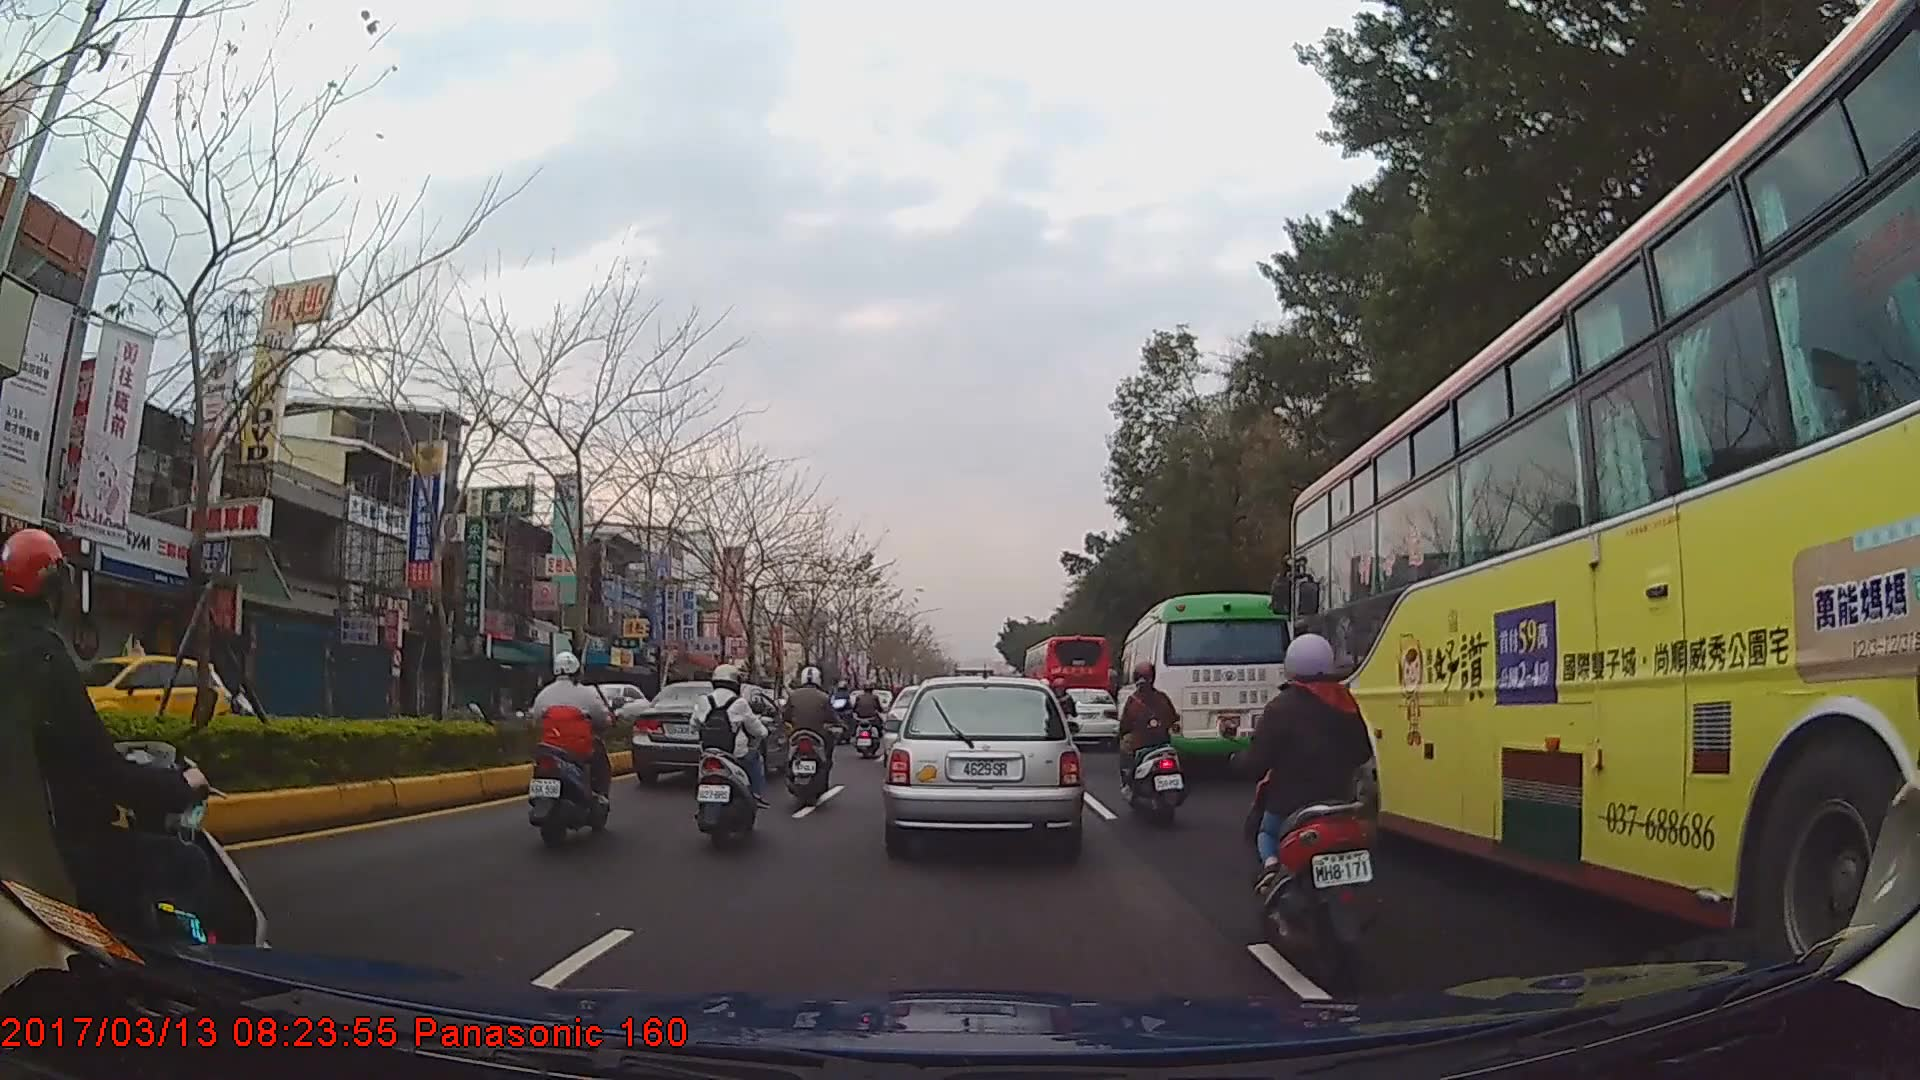rider: (1, 531, 280, 986), (1246, 627, 1382, 979), (531, 649, 615, 849), (687, 662, 766, 851), (1117, 661, 1184, 819), (780, 666, 845, 808), (851, 681, 888, 761), (834, 680, 857, 726)
vehicle: (1285, 0, 1920, 1021), (882, 671, 1083, 856), (1115, 591, 1293, 783), (34, 636, 235, 755), (629, 677, 792, 789), (1022, 632, 1110, 743), (1048, 684, 1119, 747)
